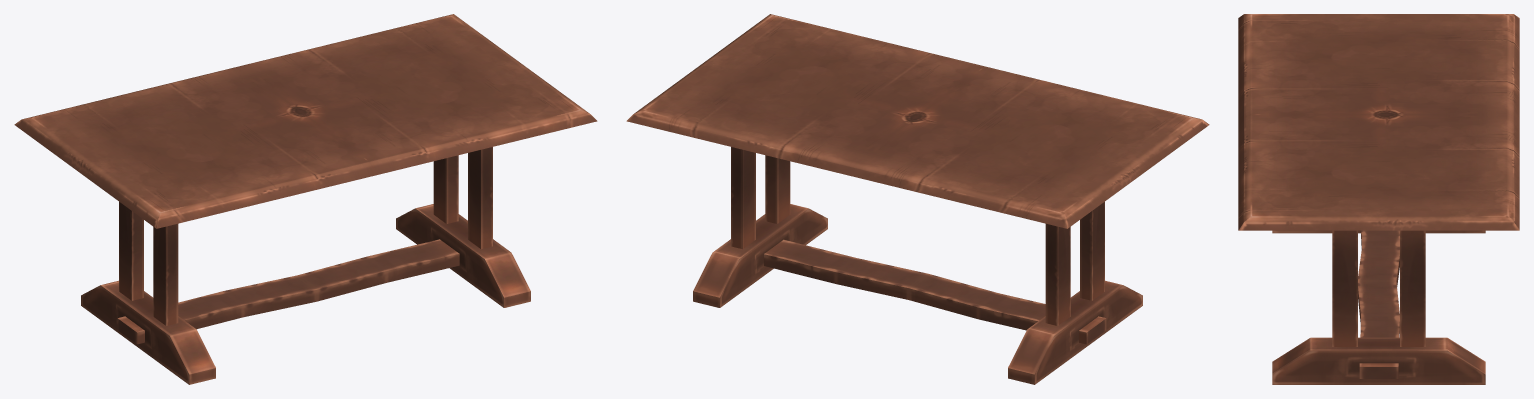
File: Mesh_Table_carre.fbx
The picture shows the model from 3 angles, left to right: view 1: azimuth 30°, elevation 25°; view 2: azimuth 150°, elevation 25°; view 3: azimuth 270°, elevation 25°; orthographic projection.
Visible parts, largest first — view 1: MESH_TABLE_CARRE; view 2: MESH_TABLE_CARRE; view 3: MESH_TABLE_CARRE.
Part boxes in pixels (x1=…): MESH_TABLE_CARRE: x1=14, y1=14, x2=597, y2=384; MESH_TABLE_CARRE: x1=626, y1=14, x2=1209, y2=384; MESH_TABLE_CARRE: x1=1238, y1=14, x2=1519, y2=384.
Bounding box in the file's own units: 1.76 × 0.7213 × 0.9809.
